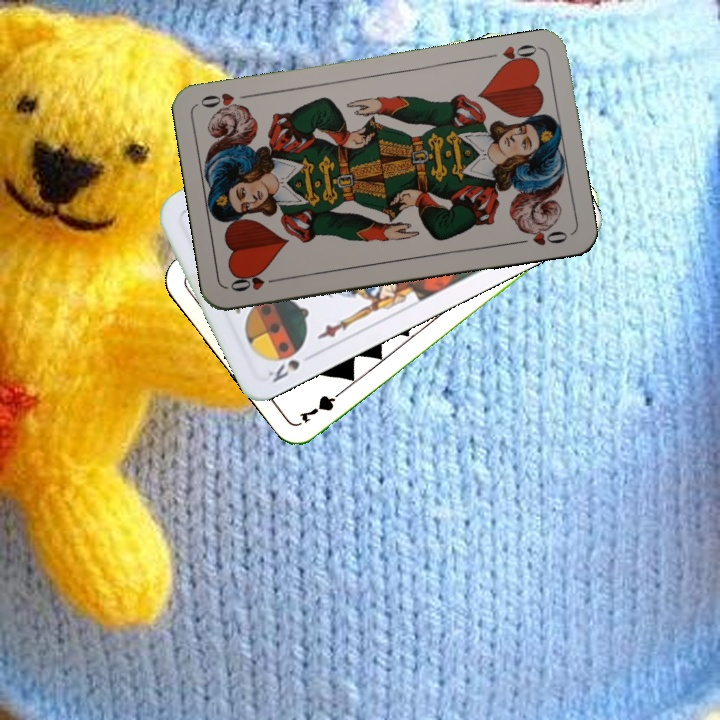G7: (294, 384, 349, 426)
HO: (226, 269, 284, 295), (496, 40, 541, 70)
SK: (263, 343, 306, 385)
